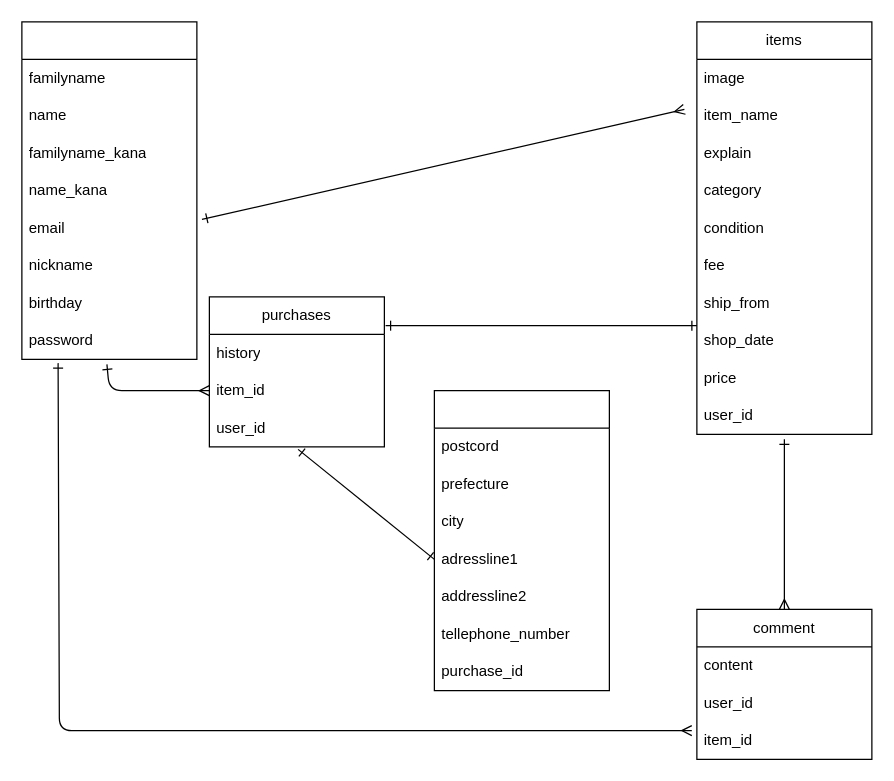
The diagram is 894 pixels wide and 781 high, and some of its shapes have lost their labels. The box of each missing label's shape, as (x1, y1, x2, y2) in pixels:
adresses: (433, 389, 609, 691)
users: (21, 21, 197, 359)
